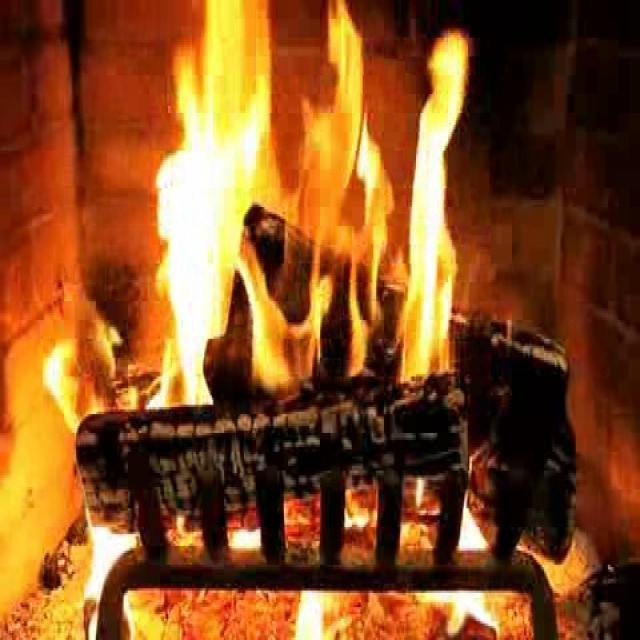Fire: (143, 10, 478, 418)
